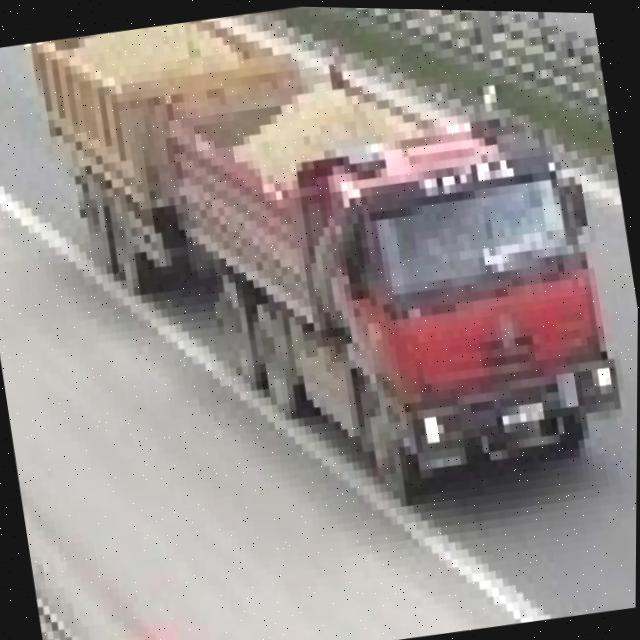truck: (32, 1, 633, 545)
